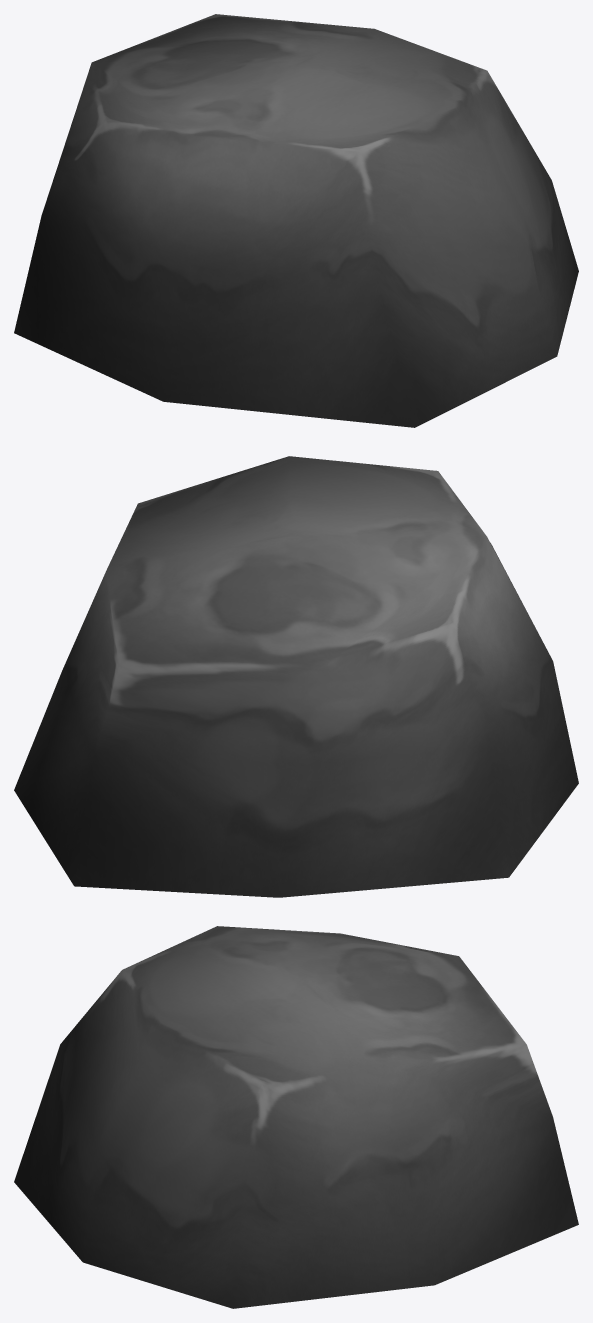
File: M_Rock1.fbx
The picture shows the model from 3 angles, top to bottom: view 1: azimuth 30°, elevation 25°; view 2: azimuth 150°, elevation 25°; view 3: azimuth 270°, elevation 25°; orthographic projection. The views are drawn at different scales.
Visible parts, largest first — view 1: M_Rock1; view 2: M_Rock1; view 3: M_Rock1.
Part boxes in pixels (x1,y1,x2,y2): M_Rock1: (14,14,578,427); M_Rock1: (14,456,578,897); M_Rock1: (14,926,578,1308).
Bounding box in the file's own units: 1.12 × 0.522 × 1.23.
